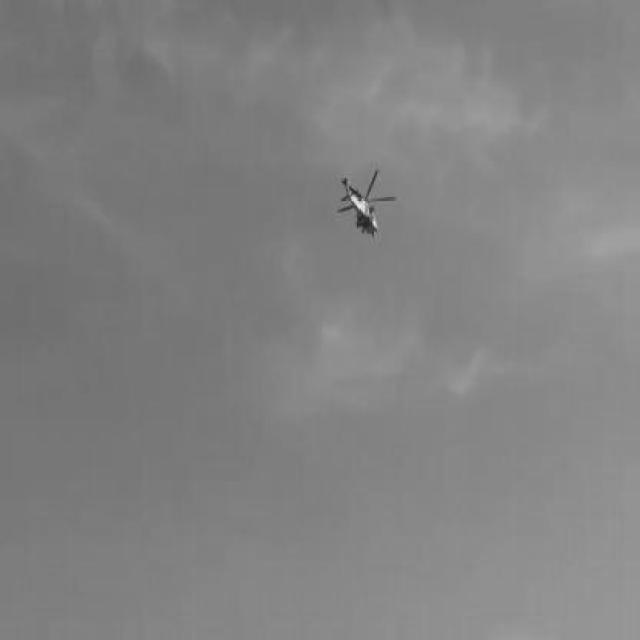helikopter: (331, 162, 404, 246)
